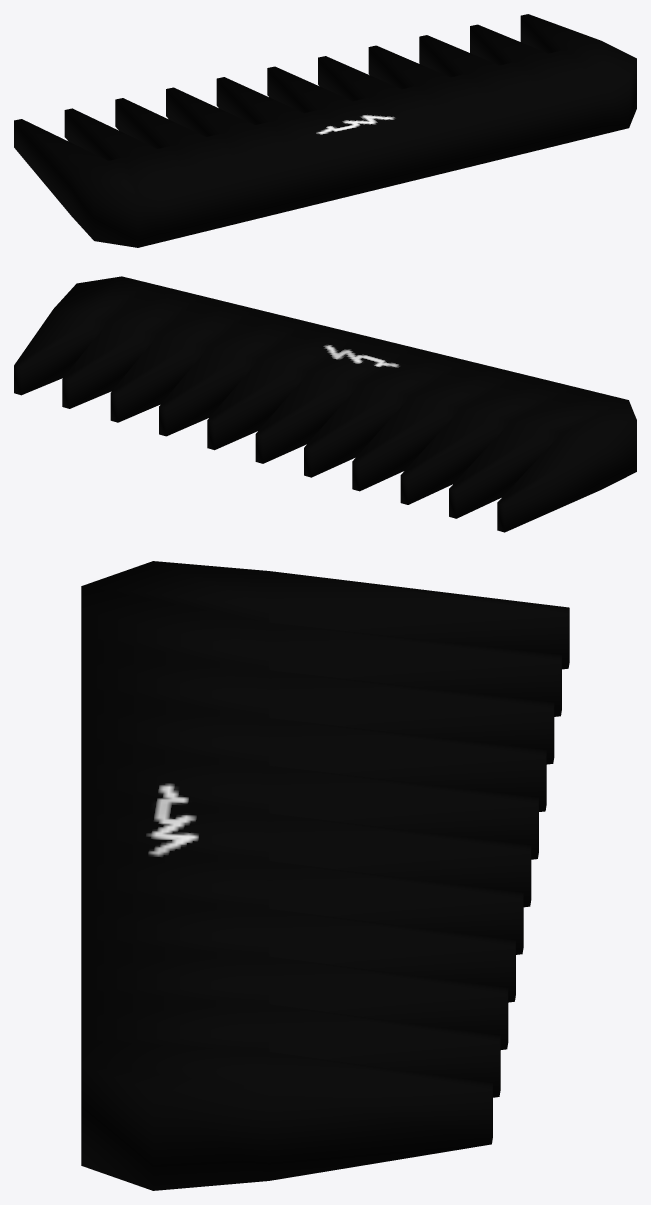
The model's file is obj_Comb.fbx.
3 views of the same model, one above another, from view 1: azimuth 30°, elevation 25°; view 2: azimuth 150°, elevation 25°; view 3: azimuth 270°, elevation 25° (orthographic). The views are drawn at different scales.
Parts seen in each view (by area): view 1: obj_Comb; view 2: obj_Comb; view 3: obj_Comb.
Boxes of the visible parts, bbox=[...] form: obj_Comb: bbox=[14, 14, 636, 247]; obj_Comb: bbox=[14, 276, 636, 532]; obj_Comb: bbox=[81, 561, 569, 1190].
Size of the model in its own units: 0.1526 by 0.0134 by 0.0595.
